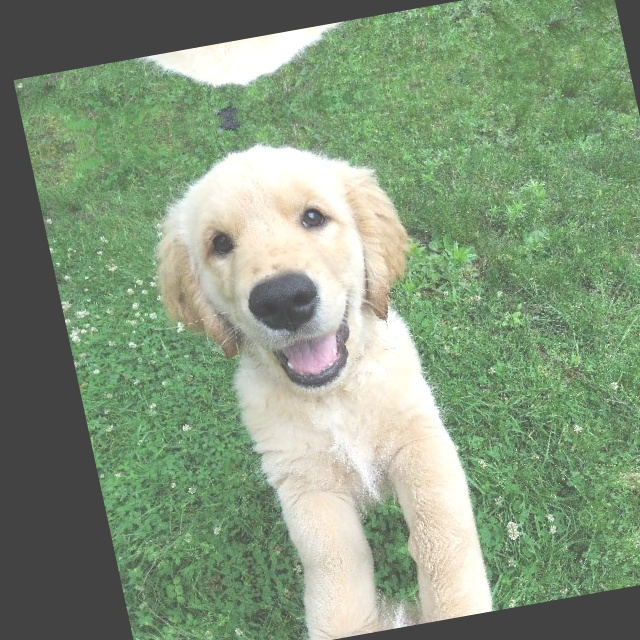dog: (129, 101, 520, 582), (221, 529, 535, 640), (109, 10, 420, 121)
